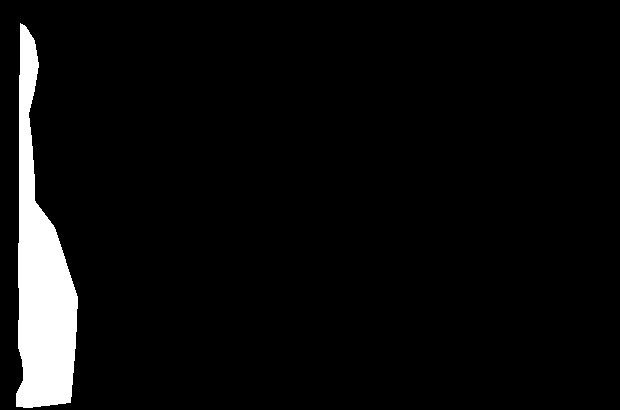type5: (11, 19, 80, 408)
